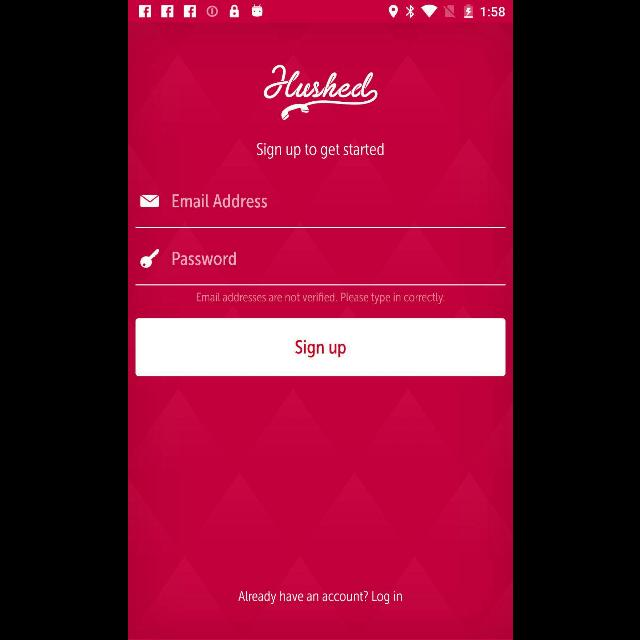icon: (140, 195, 158, 208)
image: (262, 65, 378, 121), (140, 250, 158, 268)
input: (135, 248, 505, 286), (135, 194, 505, 228)
text: (196, 292, 444, 304), (255, 142, 383, 160), (237, 591, 401, 605), (172, 194, 266, 208), (172, 252, 236, 266)
textbutton: (135, 318, 505, 376)
uppertaskbar: (128, 1, 512, 23)
